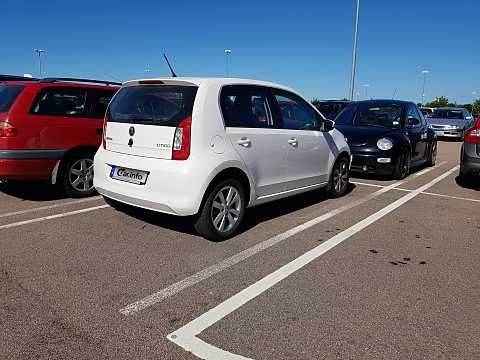car: (90, 76, 351, 244), (1, 81, 121, 194), (333, 99, 437, 179), (425, 103, 475, 141)
